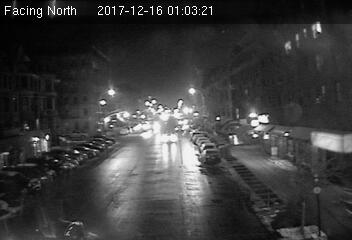car: (202, 149, 221, 164)
